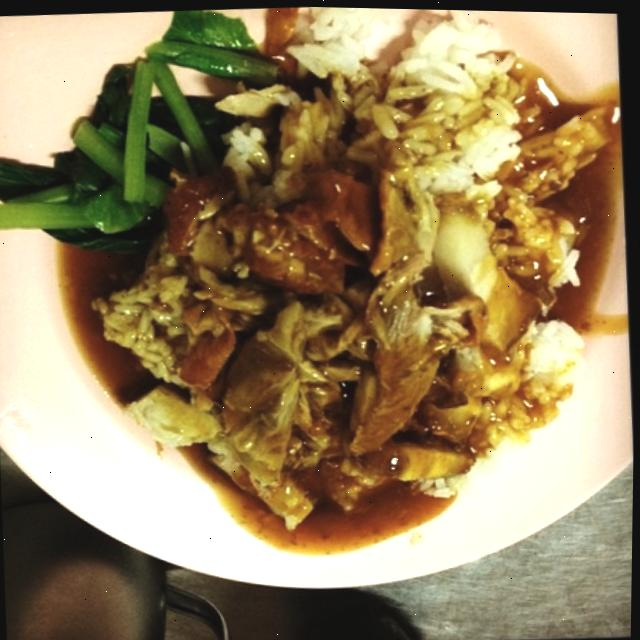米饭主食: (36, 1, 602, 579)
